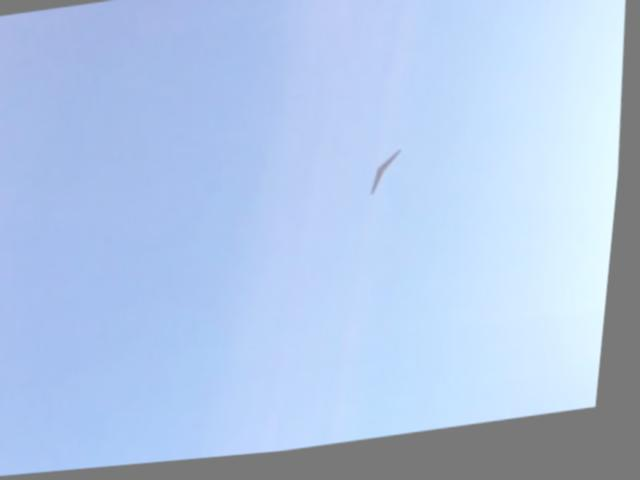flying wing: (370, 154, 410, 204)
